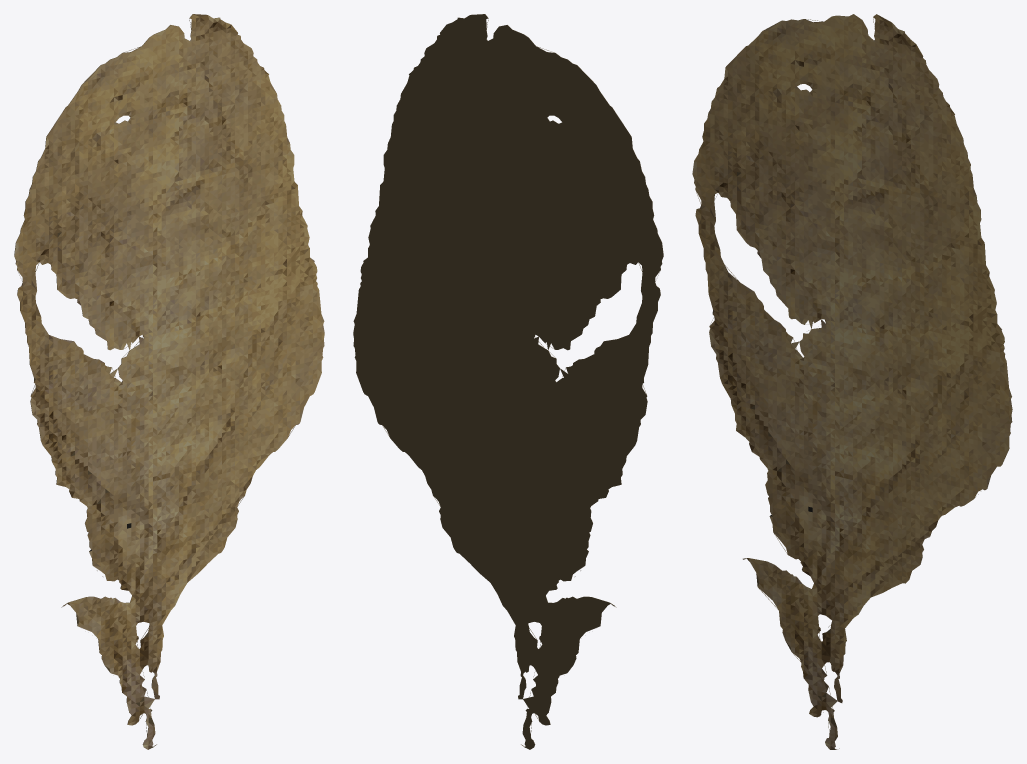
Rendered from 20260824_155729148_iOS.obj.
3 views of the same model, side by side, from view 1: azimuth 30°, elevation 25°; view 2: azimuth 150°, elevation 25°; view 3: azimuth 330°, elevation 25° (orthographic). The views are drawn at different scales.
Parts seen in each view (by area): view 1: 20260824_155729148_iOS; view 2: 20260824_155729148_iOS; view 3: 20260824_155729148_iOS.
Part boxes in pixels (left/top/right/bottom): 20260824_155729148_iOS: left=14, top=14, right=324, bottom=749; 20260824_155729148_iOS: left=353, top=14, right=663, bottom=749; 20260824_155729148_iOS: left=692, top=14, right=1012, bottom=749.
Size of the model in its own units: 215 by 480 by 0.3.
